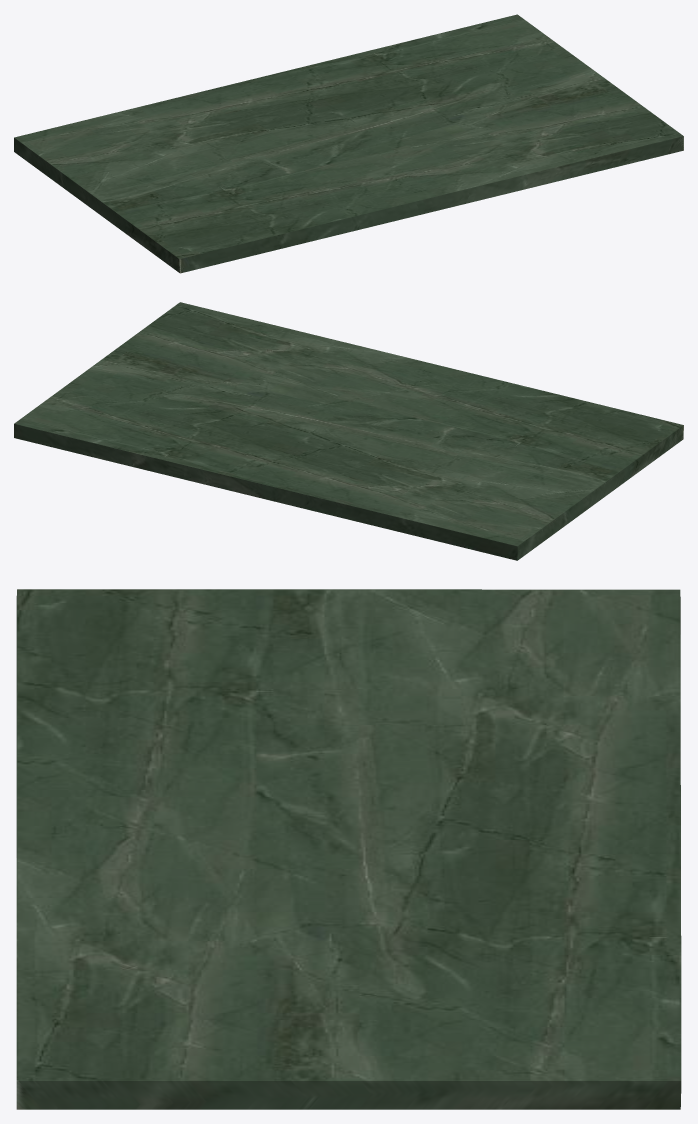
File: 34 - SKÅLSTA Table top - dark grey-green marble effect 140x80 cm.glb
3 renders of one model, top to bottom at view 1: azimuth 30°, elevation 25°; view 2: azimuth 150°, elevation 25°; view 3: azimuth 270°, elevation 25°, orthographic. The views are drawn at different scales.
Parts seen in each view (by area): view 1: ASY_ART_40611664_S01_NV01; view 2: ASY_ART_40611664_S01_NV01; view 3: ASY_ART_40611664_S01_NV01.
Part boxes in pixels (x1=…): ASY_ART_40611664_S01_NV01: x1=14, y1=14, x2=683, y2=273; ASY_ART_40611664_S01_NV01: x1=14, y1=302, x2=683, y2=560; ASY_ART_40611664_S01_NV01: x1=16, y1=589, x2=681, y2=1109.
Bounding box in the file's own units: 1.4 × 0.0382 × 0.7995.
Materials: 1 (1 with a texture image).
